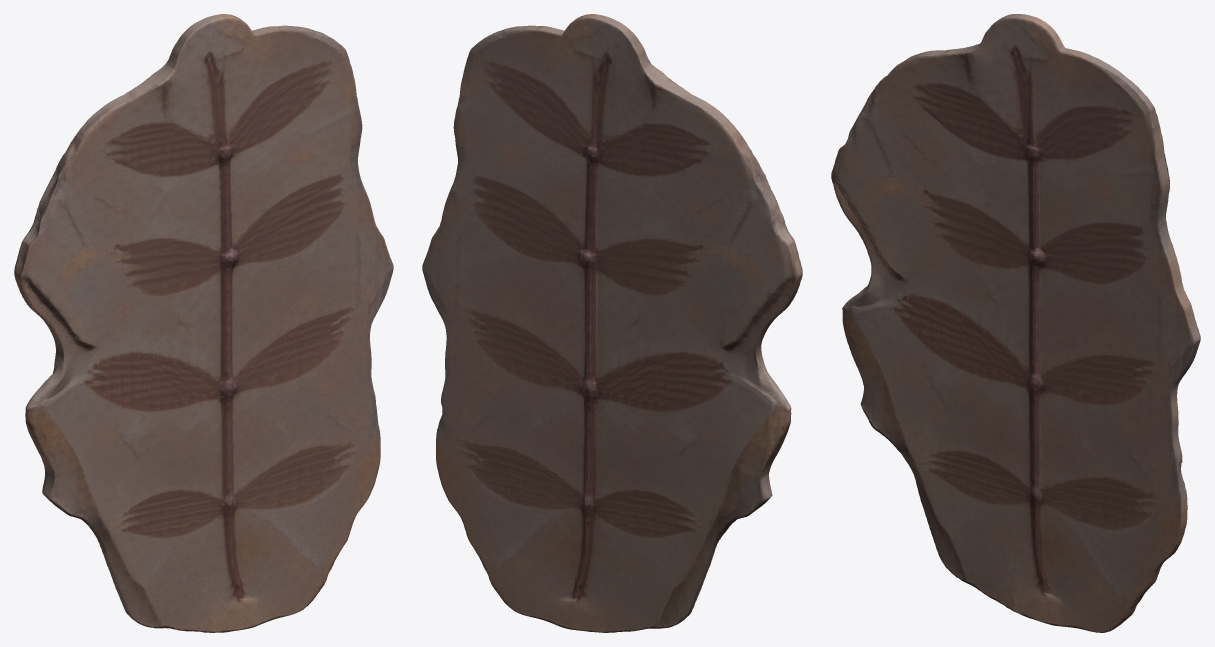
3 renders of one model, left to right at view 1: azimuth 30°, elevation 25°; view 2: azimuth 150°, elevation 25°; view 3: azimuth 330°, elevation 25°, orthographic. The views are drawn at different scales.
Parts seen in each view (by area): view 1: world; view 2: world; view 3: world.
Boxes of the visible parts, x1=… form: world: x1=14, y1=14, x2=393, y2=632; world: x1=422, y1=14, x2=802, y2=632; world: x1=831, y1=14, x2=1200, y2=632.
Bounding box in the file's own units: 0.2863 × 0.45 × 0.0157.
Materials: 1 (1 with a texture image).
